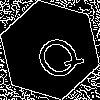Q: (25, 25, 87, 86)
